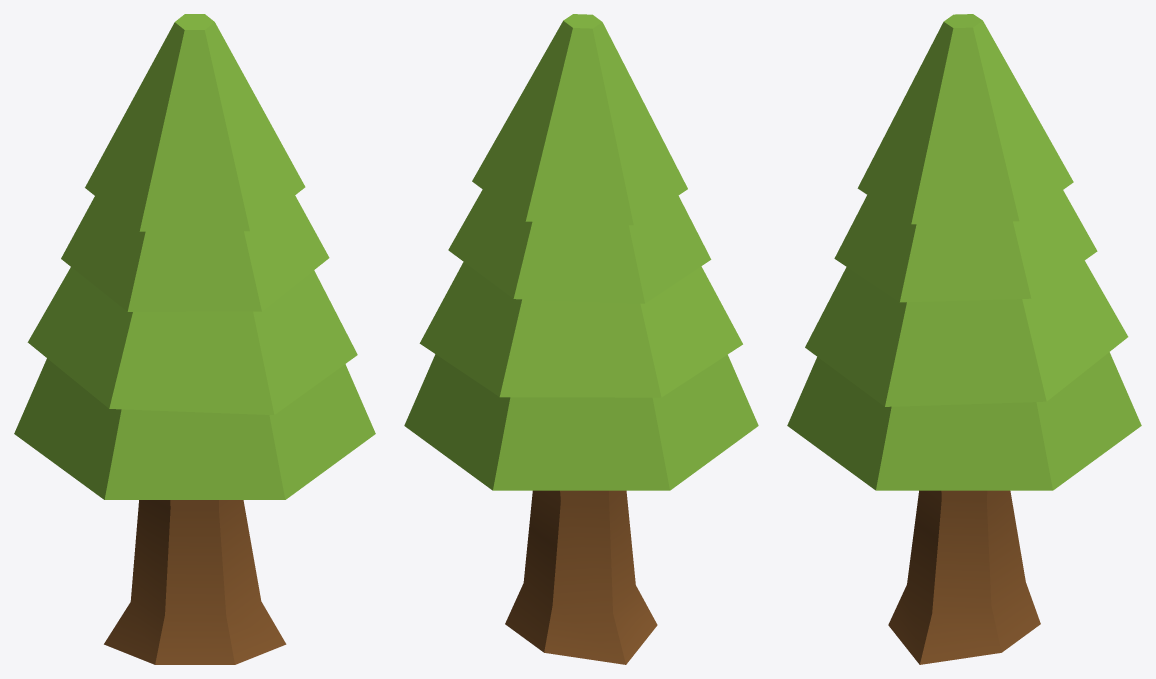
Rendered from Pohon3.fbx.
The picture shows the model from 3 angles, left to right: view 1: azimuth 30°, elevation 25°; view 2: azimuth 150°, elevation 25°; view 3: azimuth 270°, elevation 25°; orthographic projection. The views are drawn at different scales.
Visible parts, largest first — view 1: tree_2c; view 2: tree_2c; view 3: tree_2c.
Part boxes in pixels (bbox=[...]): tree_2c: bbox=[14, 14, 375, 664]; tree_2c: bbox=[404, 14, 758, 664]; tree_2c: bbox=[787, 14, 1141, 664].
Bounding box in the file's own units: 274 × 602 × 316.
